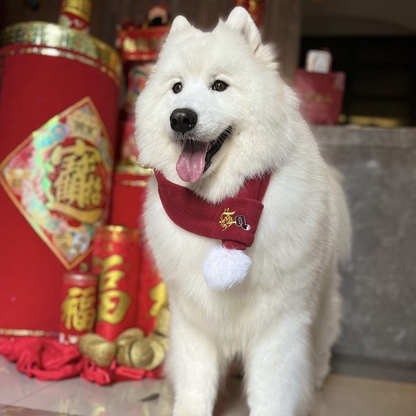samoyed: (127, 3, 361, 416)
